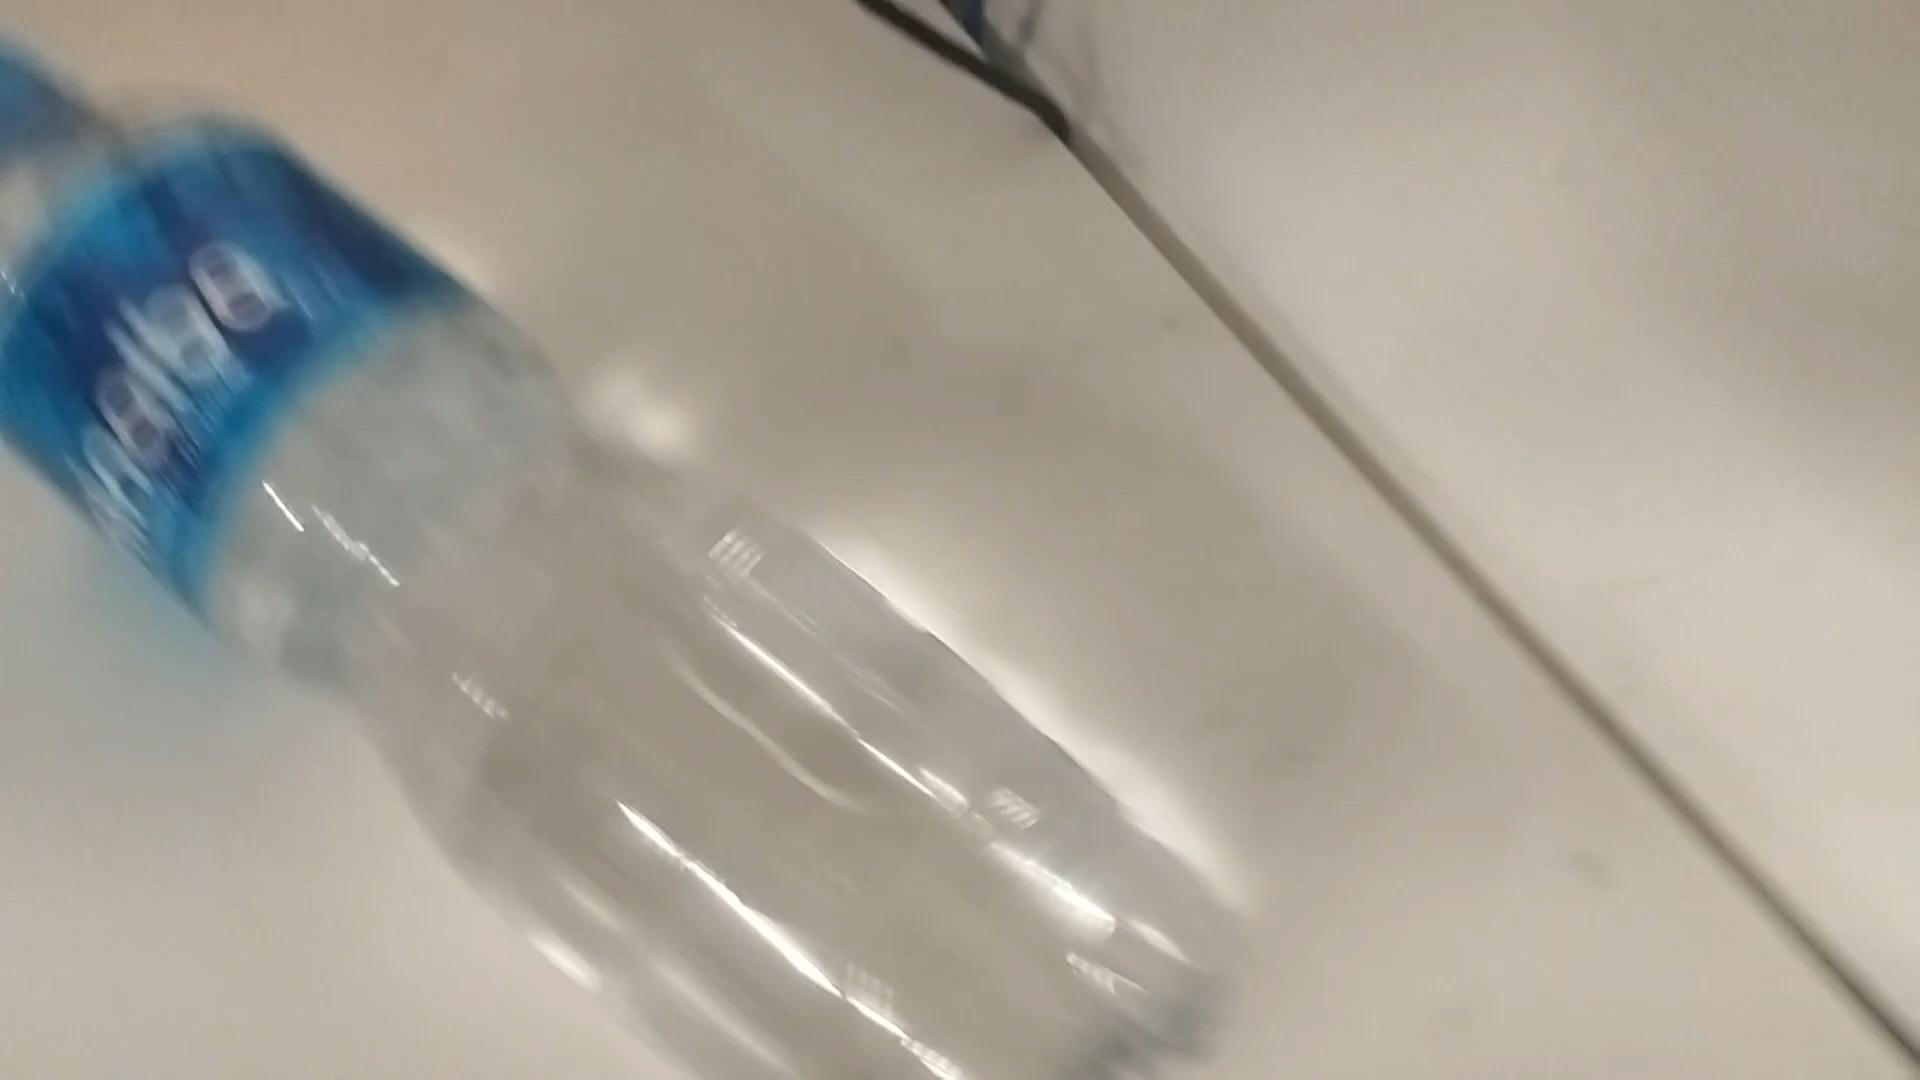agua: (8, 3, 1207, 1080)
